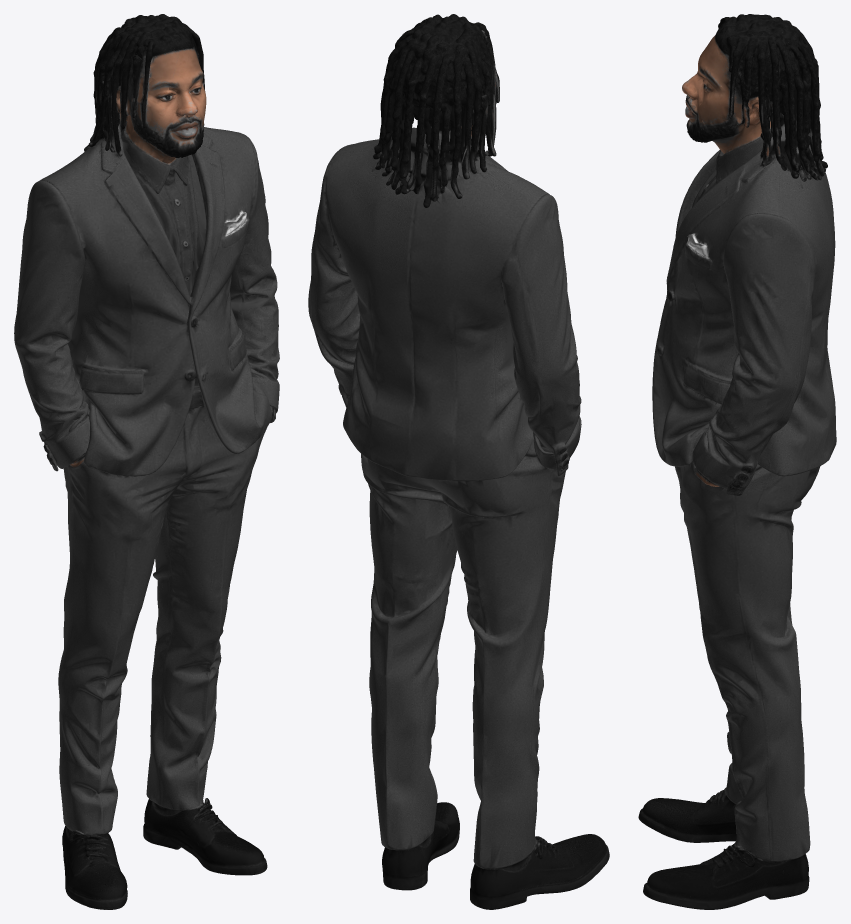
Rendered from marquis-v8.glb.
3 views of the same model, side by side, from view 1: azimuth 30°, elevation 25°; view 2: azimuth 150°, elevation 25°; view 3: azimuth 270°, elevation 25° (orthographic). The views are drawn at different scales.
Parts seen in each view (by area): view 1: mesh_node; view 2: mesh_node; view 3: mesh_node.
Part boxes in pixels (x1,y1,x2,y2): mesh_node: (14,14,279,909); mesh_node: (308,14,609,909); mesh_node: (638,14,836,909).
Size of the model in its own units: 0.6007 by 1.9 by 0.3984.
Materials: 1 (1 with a texture image).
